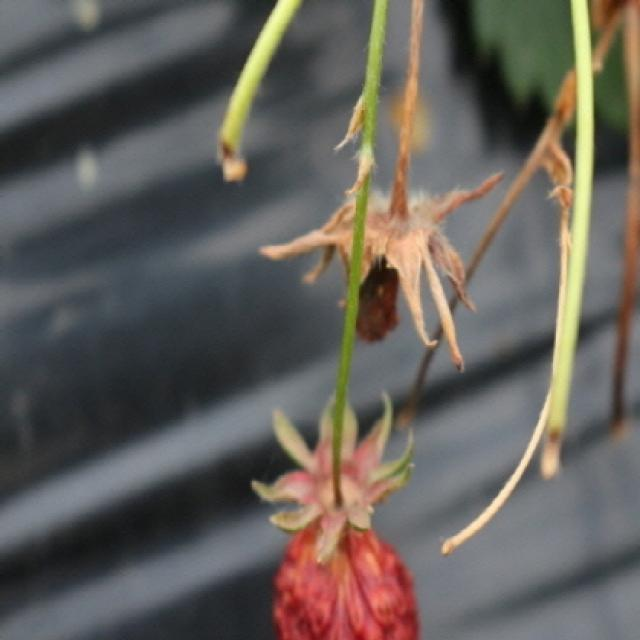Gray Mold: (259, 170, 502, 372)
